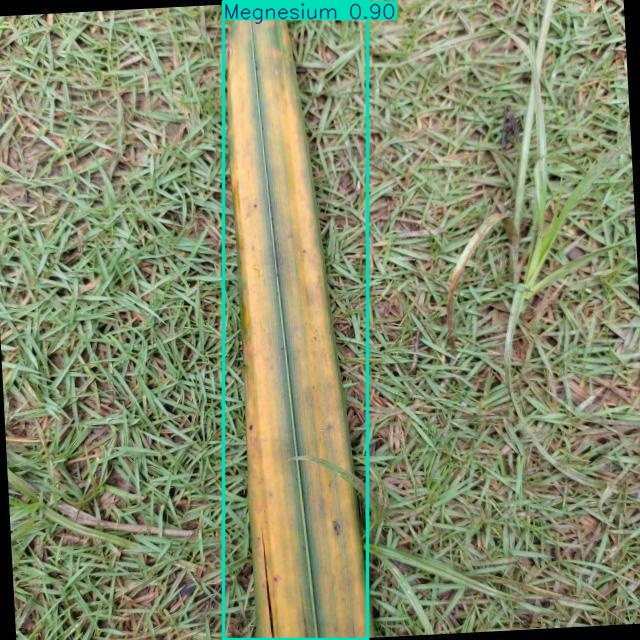Megnesium: (223, 1, 367, 640)
